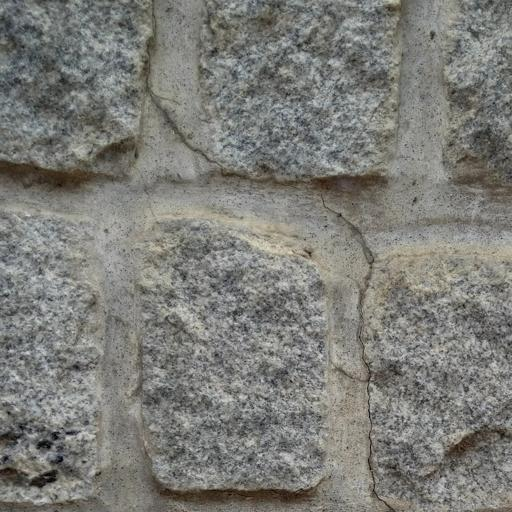minor_crack: (128, 0, 312, 204), (307, 185, 407, 512)
